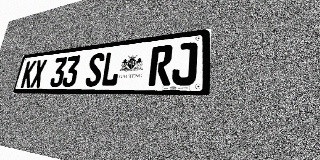3: (61, 55, 81, 87), (49, 57, 68, 87)
J: (171, 42, 198, 86)
K: (20, 60, 37, 88)
L: (100, 50, 122, 87)
R: (148, 44, 173, 86)
S: (84, 52, 105, 87)
X: (30, 59, 47, 88)
